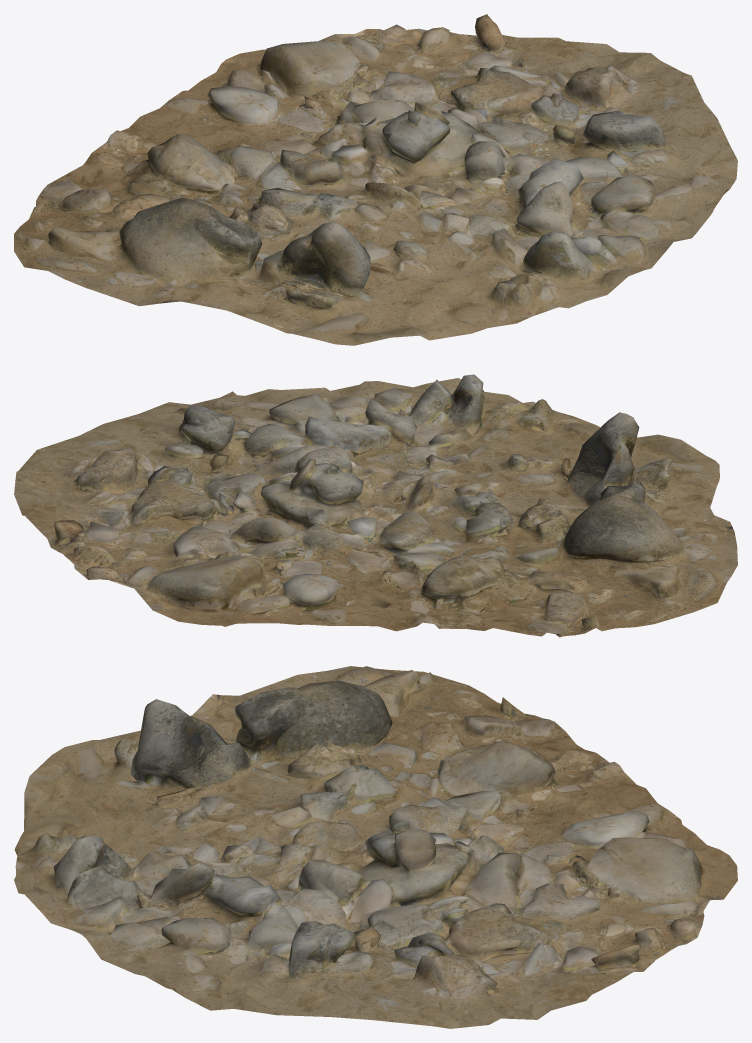
Rendered from sand-rocks-small-01_2K_e14d6880-1c63-4176-a598-1c68a5f910bd_collision.dae.
3 renders of one model, top to bottom at view 1: azimuth 30°, elevation 25°; view 2: azimuth 150°, elevation 25°; view 3: azimuth 270°, elevation 25°, orthographic. The views are drawn at different scales.
Visible parts, largest first — view 1: sand_rocks_small_01_LOD0; view 2: sand_rocks_small_01_LOD0; view 3: sand_rocks_small_01_LOD0.
Boxes of the visible parts, bbox=[...] form: sand_rocks_small_01_LOD0: bbox=[14, 14, 737, 345]; sand_rocks_small_01_LOD0: bbox=[14, 374, 737, 637]; sand_rocks_small_01_LOD0: bbox=[14, 666, 737, 1028].
Size of the model in its own units: 4.63 by 3.88 by 0.5369.
